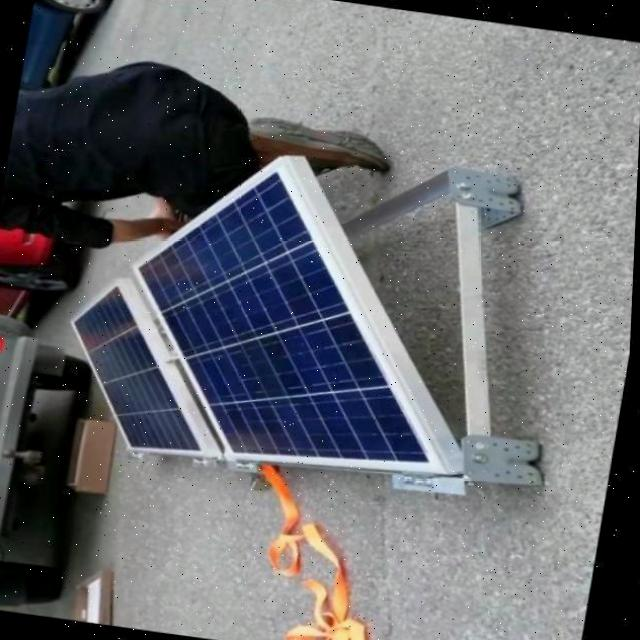Normal Solar Panel: (112, 154, 474, 477), (58, 280, 227, 454)
